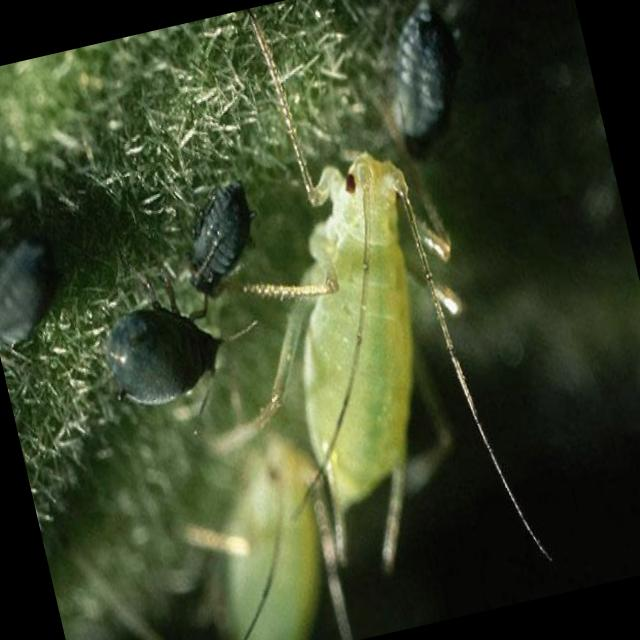Aphids: (184, 20, 532, 528), (151, 156, 287, 328)
